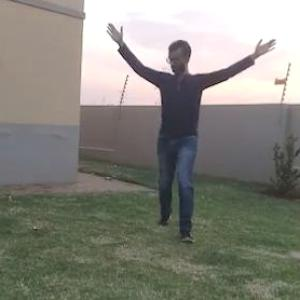takeoff: (102, 3, 292, 247)
